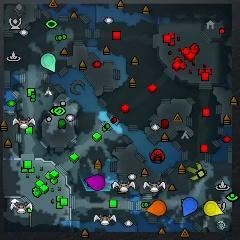p1: (182, 197, 198, 217)
p2: (41, 53, 56, 72)
p3: (85, 175, 105, 191)
p4: (203, 201, 224, 216)
p5: (147, 200, 167, 216)
x2: (188, 162, 204, 181)
